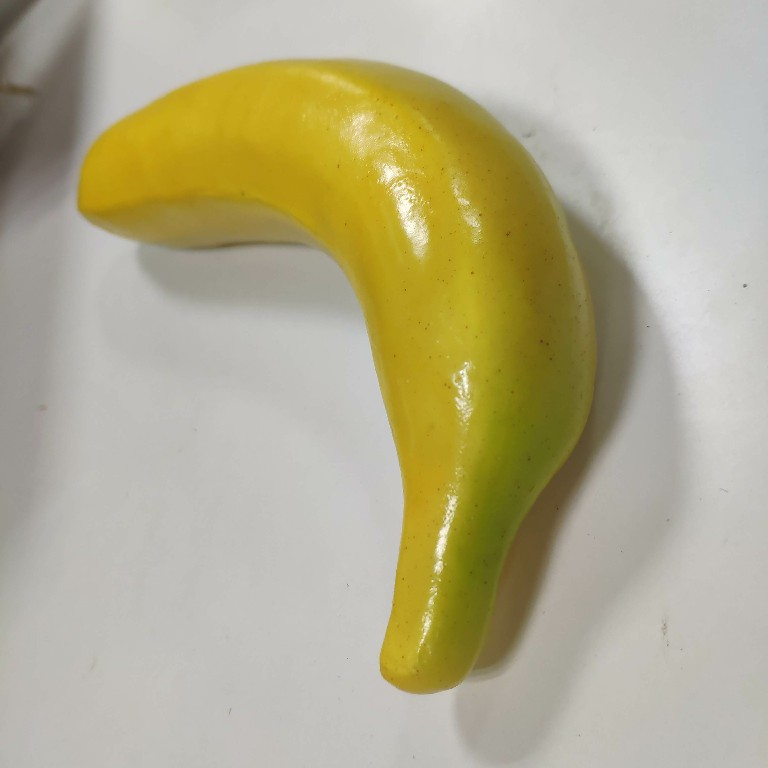fruit_banana: (72, 52, 604, 699)
